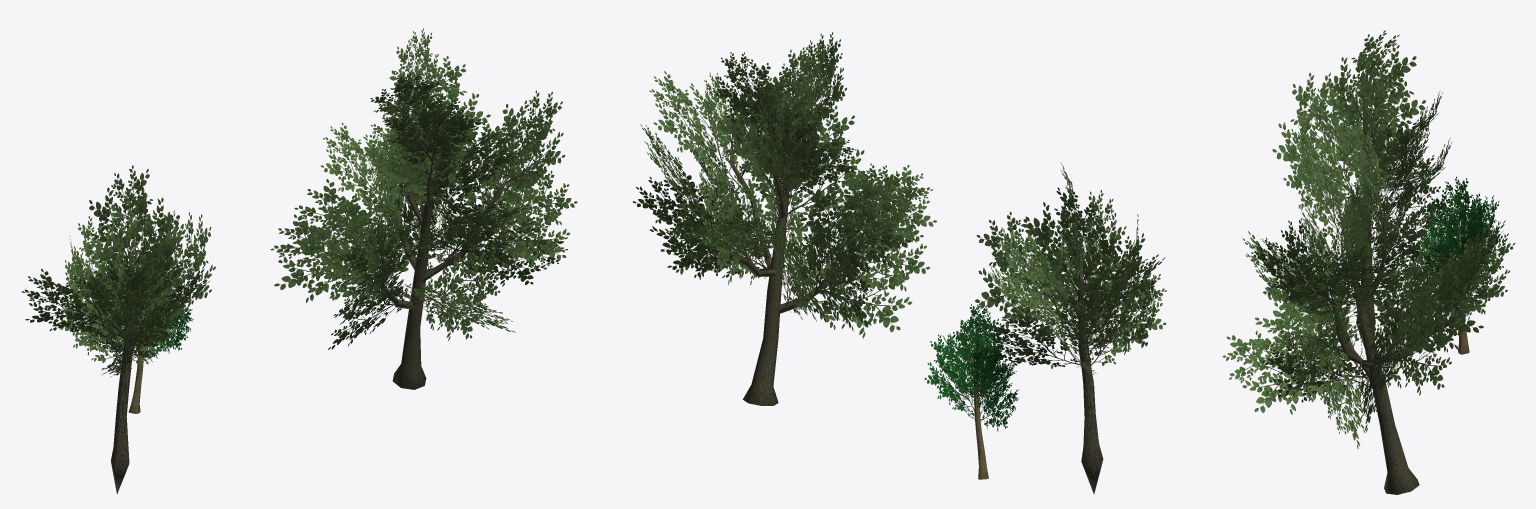
Rendered from Trees_Entrance_Centre_COMBO.fbx.
3 views of the same model, side by side, from view 1: azimuth 30°, elevation 25°; view 2: azimuth 150°, elevation 25°; view 3: azimuth 270°, elevation 25° (orthographic). The views are drawn at different scales.
Parts seen in each view (by area): view 1: Sun_0015_Large_tree_3_orange; view 2: Sun_0015_Large_tree_3_orange; view 3: Sun_0015_Large_tree_3_orange.
Part boxes in pixels (x1,y1,x2,y2): Sun_0015_Large_tree_3_orange: [21, 28, 577, 494]; Sun_0015_Large_tree_3_orange: [632, 32, 1166, 494]; Sun_0015_Large_tree_3_orange: [1222, 30, 1515, 494].
Size of the model in its own units: 26.1 by 17.73 by 12.74.
